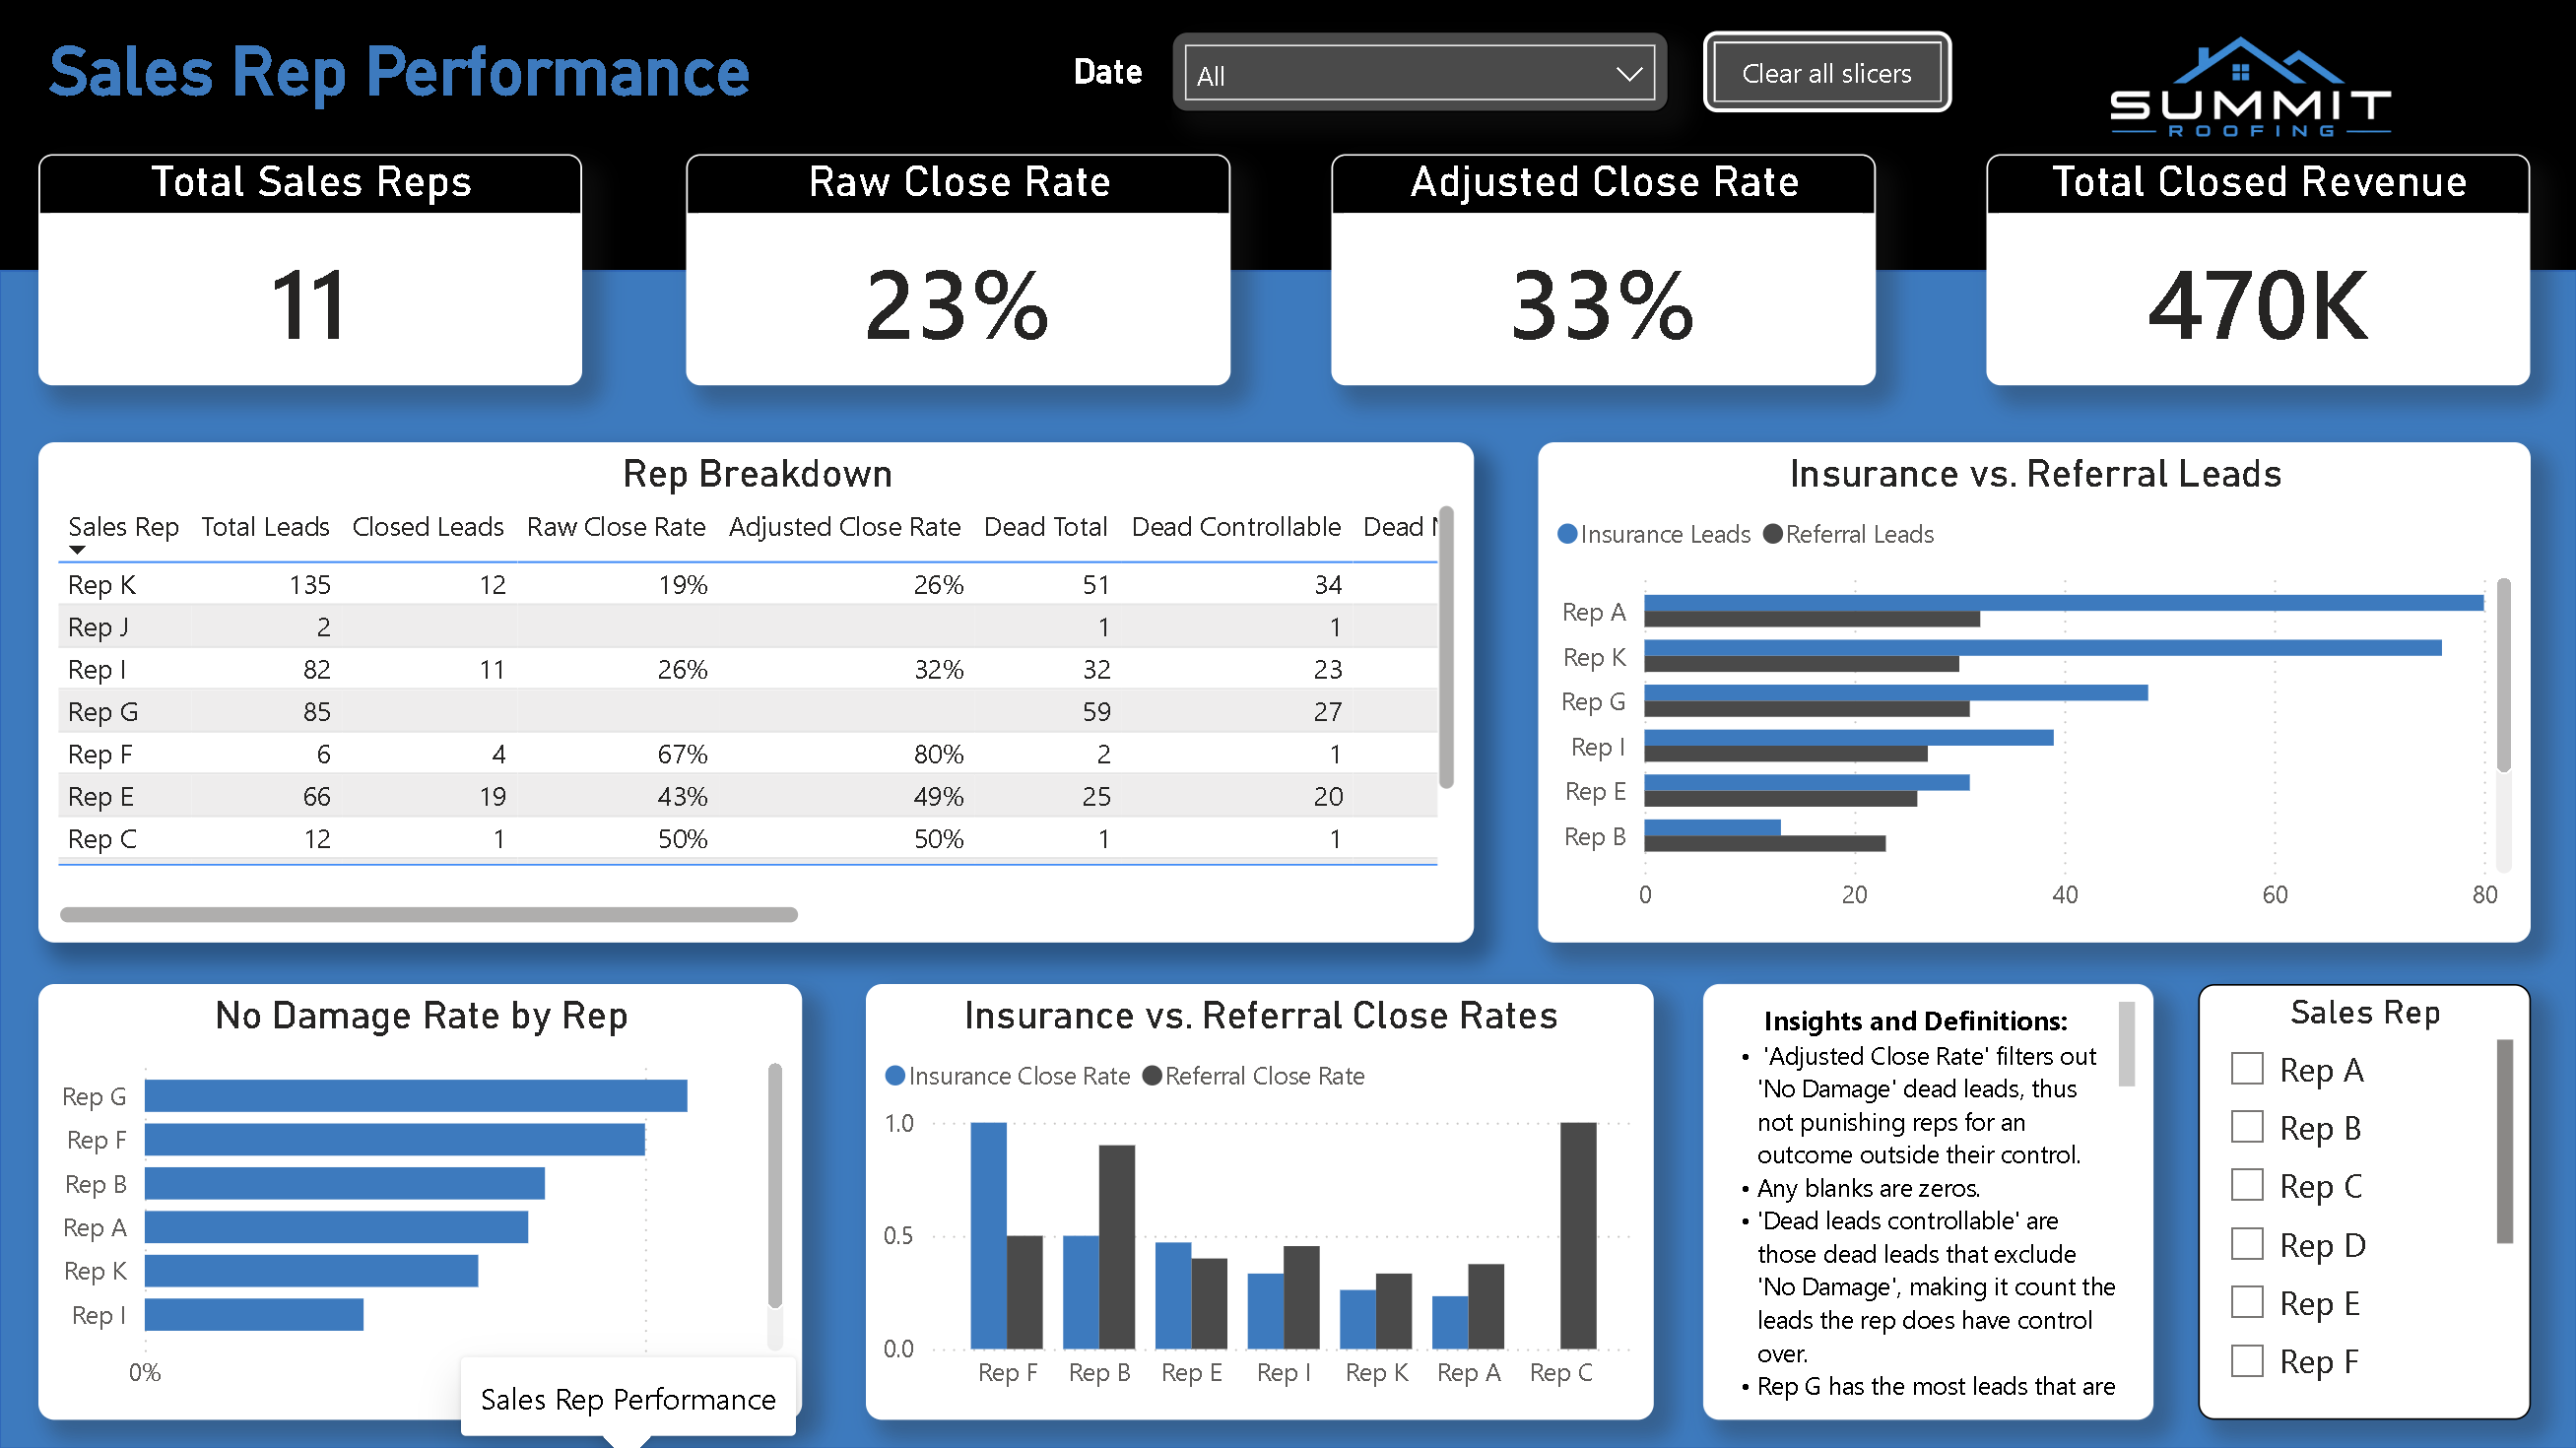

The dashboard page shown, as its layout file describes it:
{"tool":"powerbi","page":{"name":"Sales Rep Performance","canvas":[1280,720],"ordinal":1},"visuals":[{"type":"image","box":[978.3,11,280,66],"z":0},{"type":"shape","box":[0,134.5,1280.3,585.7],"z":1000},{"type":"cardVisual","title":"Adjusted Close Rate","fields":{"Data":["leads.Adjusted Close Rate dax"]},"box":[661.6,77,270.2,114.9],"z":2000},{"type":"cardVisual","title":"Total Sales Reps","fields":{"Data":["sales_reps.Sales Reps Count"]},"box":[19.6,77,270,114.9],"z":3000},{"type":"cardVisual","title":"Total Closed Revenue","fields":{"Data":["leads.Closed Revenue"]},"box":[986.8,77,270,114.9],"z":4000},{"type":"tableEx","title":"Rep Breakdown","fields":{"Values":["sales_reps.full_name","leads.Total Leads","leads.Closed Leads","leads.Raw Close Rate","leads.Adjusted Close Rate dax","leads.Dead Total","leads.Dead Controllable","leads.Dead No Damage","leads.No Damage Rate","Avg(leads.contract_total)","leads.Insurance Close Rate","leads.Referral Close Rate"]},"box":[19.6,220.1,712.9,248.2],"z":5000},{"type":"clusteredBarChart","title":"No Damage Rate by Rep","fields":{"Category":["sales_reps.full_name"],"Y":["leads.No Damage Rate"]},"box":[19.6,489.1,379.1,216.4],"z":6000},{"type":"cardVisual","title":"Raw Close Rate","fields":{"Data":["leads.Raw Close Rate"]},"box":[341.2,77,270.2,114.9],"z":7000},{"type":"textbox","box":[19.6,11,551.5,57.5],"z":8000},{"type":"clusteredColumnChart","title":"Insurance vs. Referral Close Rates","fields":{"Category":["sales_reps.full_name"],"Y":["leads.Insurance Close Rate","leads.Referral Close Rate"]},"box":[430.4,489.1,391.3,216.4],"z":9000},{"type":"slicer","title":"Sales Rep","fields":{"Values":["sales_reps.full_name"]},"box":[1092,489.1,165.1,216.4],"z":10000},{"type":"slicer","title":"Month","fields":{"Values":["Dim_Date.Month Name","Dim_Date.Quarter","Dim_Date.Year","Dim_Date.Year-Month"]},"box":[582.1,15.9,247,40.4],"z":11000},{"type":"textbox","box":[519.7,20.8,62.4,39.1],"z":12000},{"type":"textbox","box":[846.2,489.1,223.8,216.4],"z":13000},{"type":"clusteredBarChart","title":"Insurance vs. Referral Leads","fields":{"Category":["sales_reps.full_name"],"Y":["leads.Insurance Leads","leads.Referral Leads"]},"box":[764.3,220.1,492.8,248.2],"z":14000},{"type":"actionButton","box":[846.2,15.9,123.5,40.4],"z":15000}]}

Visuals, with their boxes in screenshot pixels (x1, y1, x2, y2), scaled from the page's 1280x720 canvas onto the 2576x1448 screenshot:
image: [left=1969, top=22, right=2533, bottom=155]
shape: [left=0, top=271, right=2575, bottom=1447]
"Adjusted Close Rate" cardVisual: [left=1332, top=155, right=1876, bottom=386]
"Total Sales Reps" cardVisual: [left=39, top=155, right=583, bottom=386]
"Total Closed Revenue" cardVisual: [left=1986, top=155, right=2530, bottom=386]
"Rep Breakdown" tableEx: [left=39, top=442, right=1474, bottom=942]
"No Damage Rate by Rep" clusteredBarChart: [left=39, top=984, right=803, bottom=1418]
"Raw Close Rate" cardVisual: [left=687, top=155, right=1230, bottom=386]
textbox: [left=39, top=22, right=1150, bottom=138]
"Insurance vs. Referral Close Rates" clusteredColumnChart: [left=866, top=984, right=1654, bottom=1418]
"Sales Rep" slicer: [left=2198, top=984, right=2530, bottom=1418]
"Month" slicer: [left=1171, top=32, right=1669, bottom=113]
textbox: [left=1046, top=41, right=1171, bottom=120]
textbox: [left=1703, top=984, right=2153, bottom=1418]
"Insurance vs. Referral Leads" clusteredBarChart: [left=1538, top=442, right=2530, bottom=942]
actionButton: [left=1703, top=32, right=1951, bottom=113]
